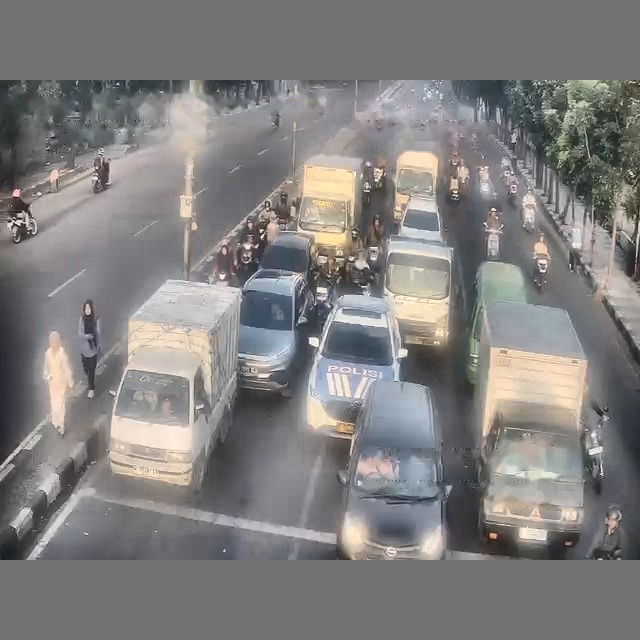Mobil: (336, 380, 451, 559), (306, 295, 407, 438), (238, 269, 314, 396), (258, 231, 316, 290), (398, 196, 445, 244)
Motor: (581, 407, 608, 493), (7, 212, 37, 243), (483, 222, 503, 259), (533, 255, 548, 291), (91, 168, 107, 193), (522, 205, 535, 231), (373, 167, 385, 190), (506, 182, 517, 205), (363, 180, 371, 205)
Truk: (474, 301, 587, 550), (109, 280, 240, 491), (297, 154, 363, 262), (394, 142, 438, 222)
